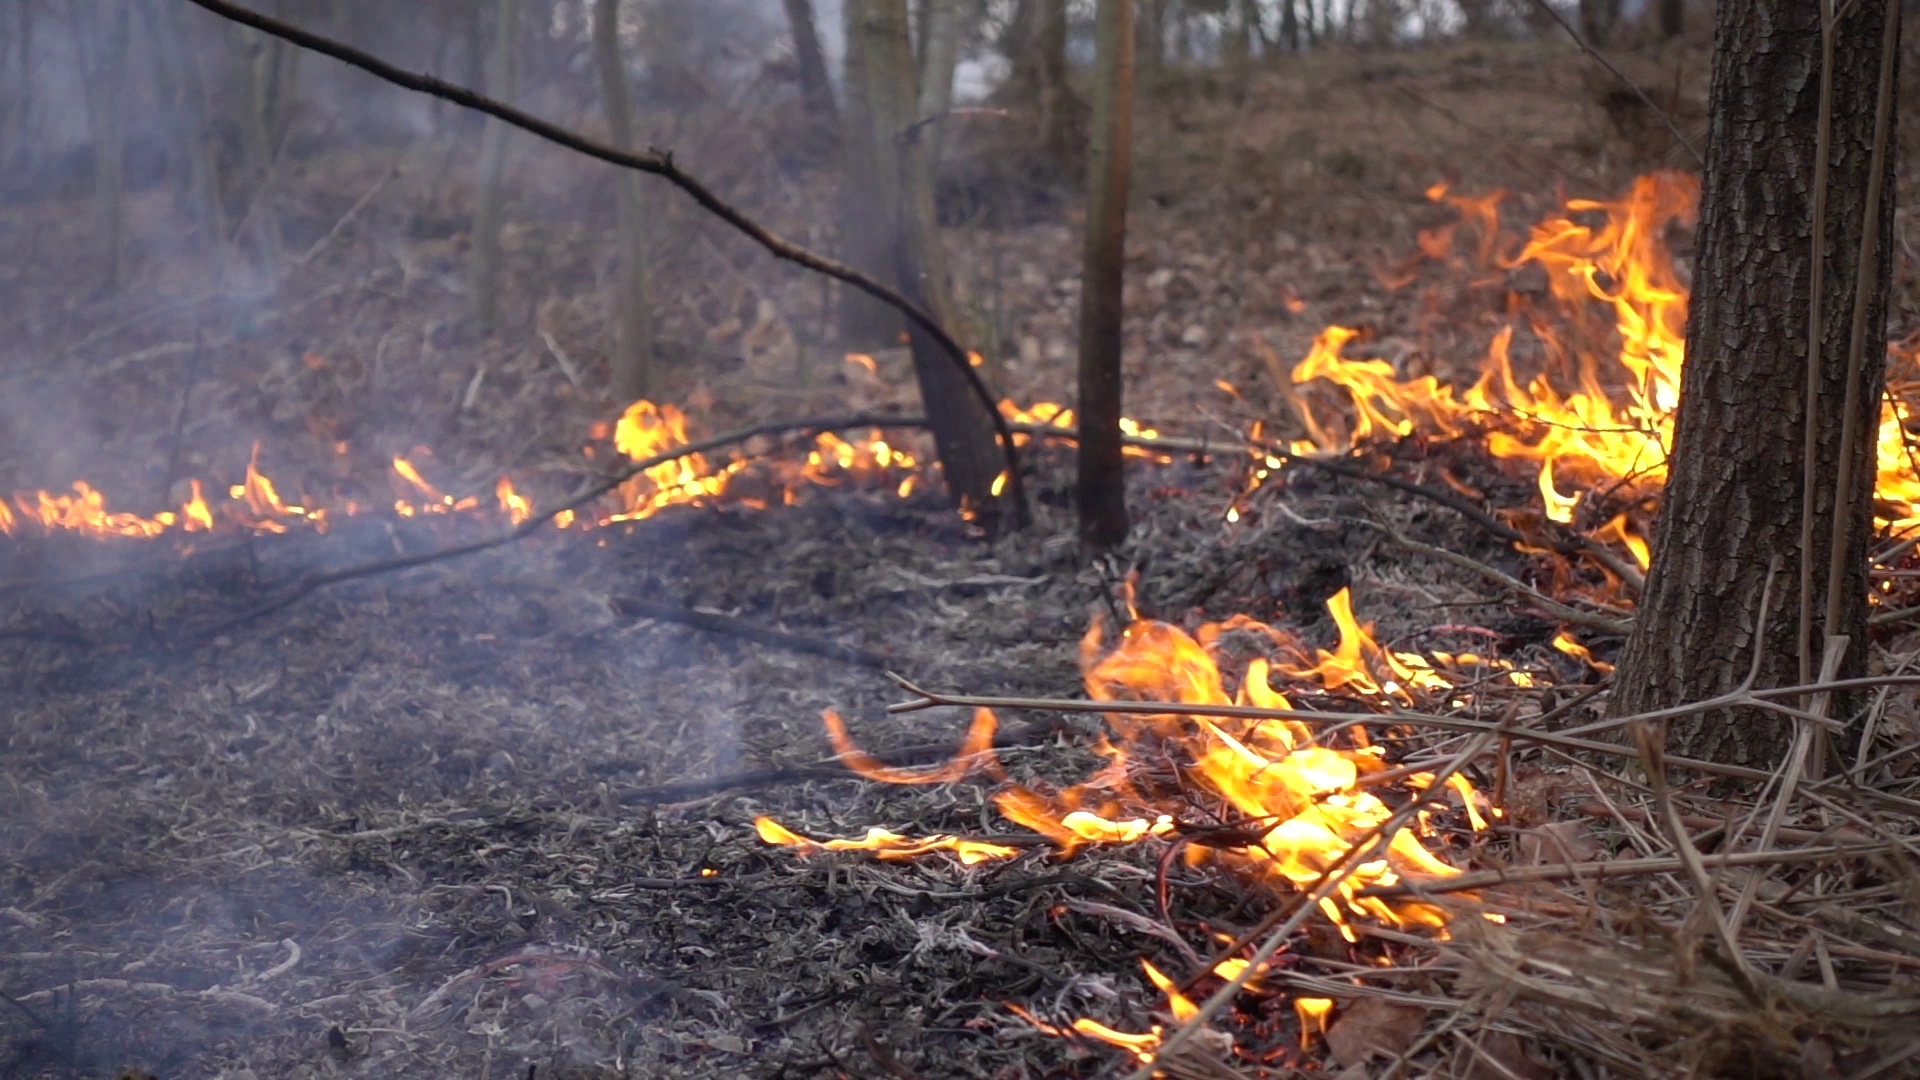fire: (816, 587, 1487, 934), (1275, 200, 1685, 542), (1, 473, 315, 542), (599, 400, 744, 517), (810, 421, 915, 495), (1878, 404, 1920, 530), (1001, 392, 1071, 436), (492, 481, 527, 521)
